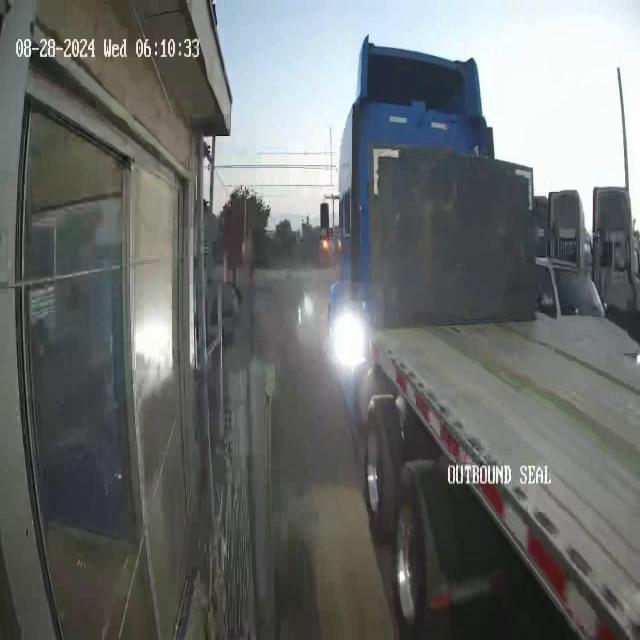TRUCK_OUT: (329, 34, 639, 637)
